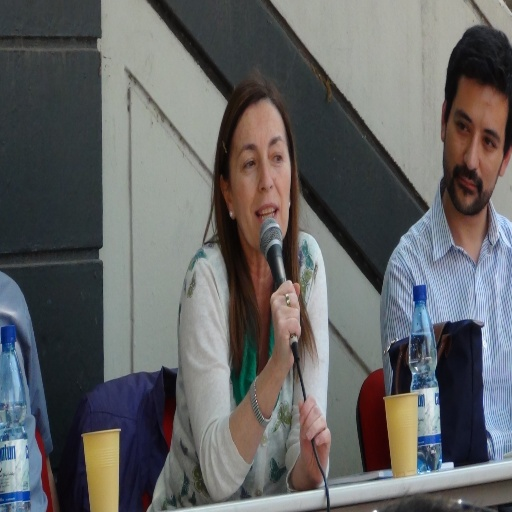hand: (268, 278, 302, 374), (296, 396, 329, 474)
